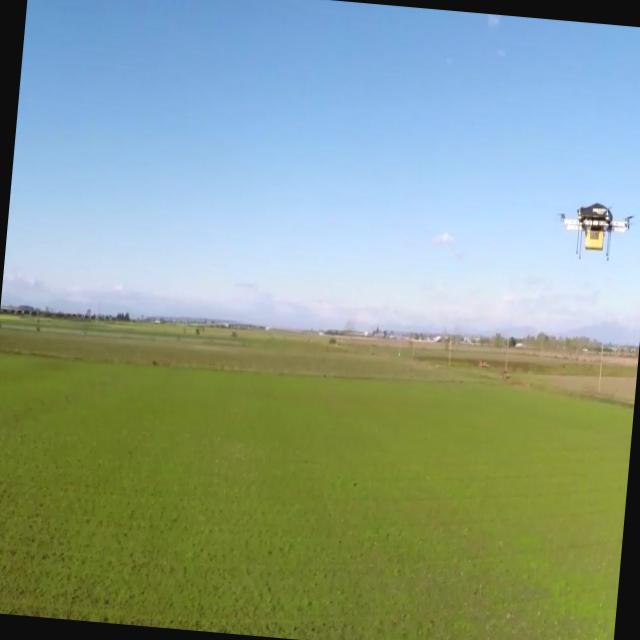drone: (554, 197, 637, 263)
